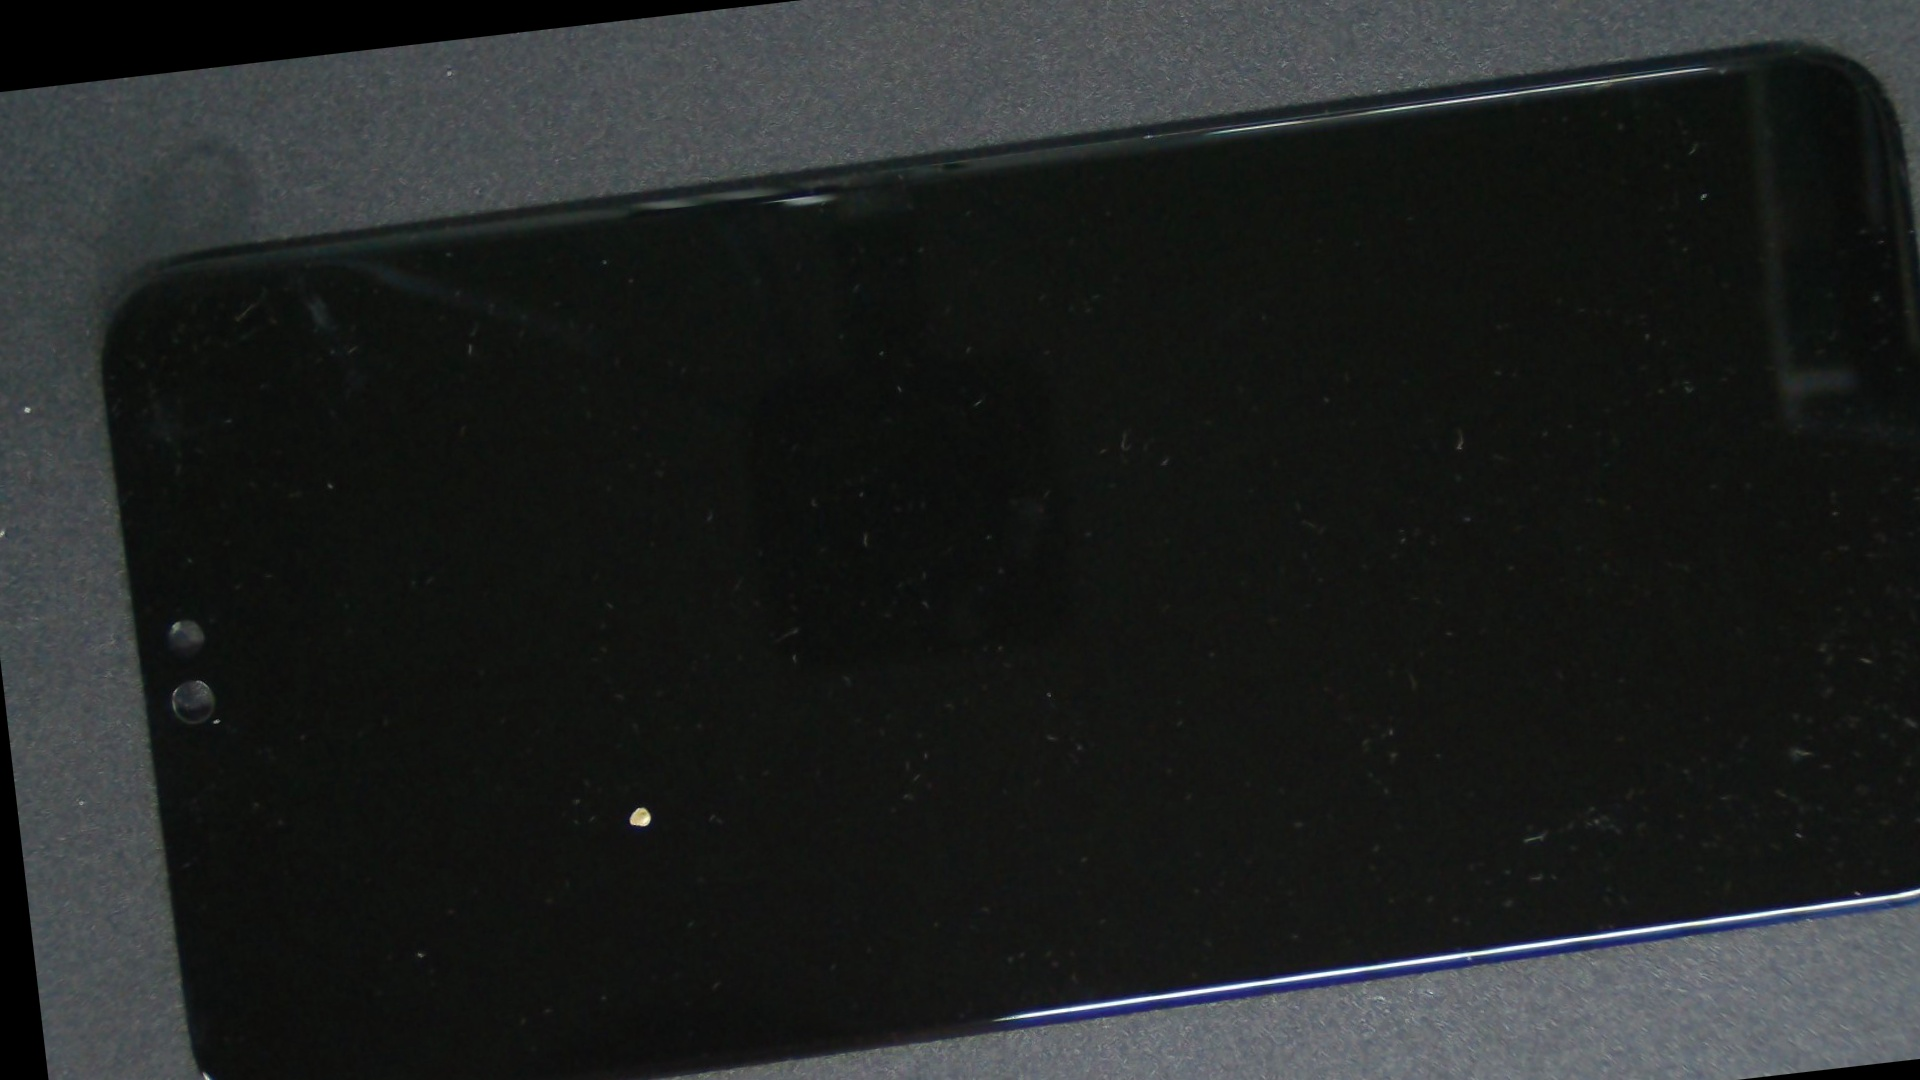oil: (287, 382, 988, 1080)
